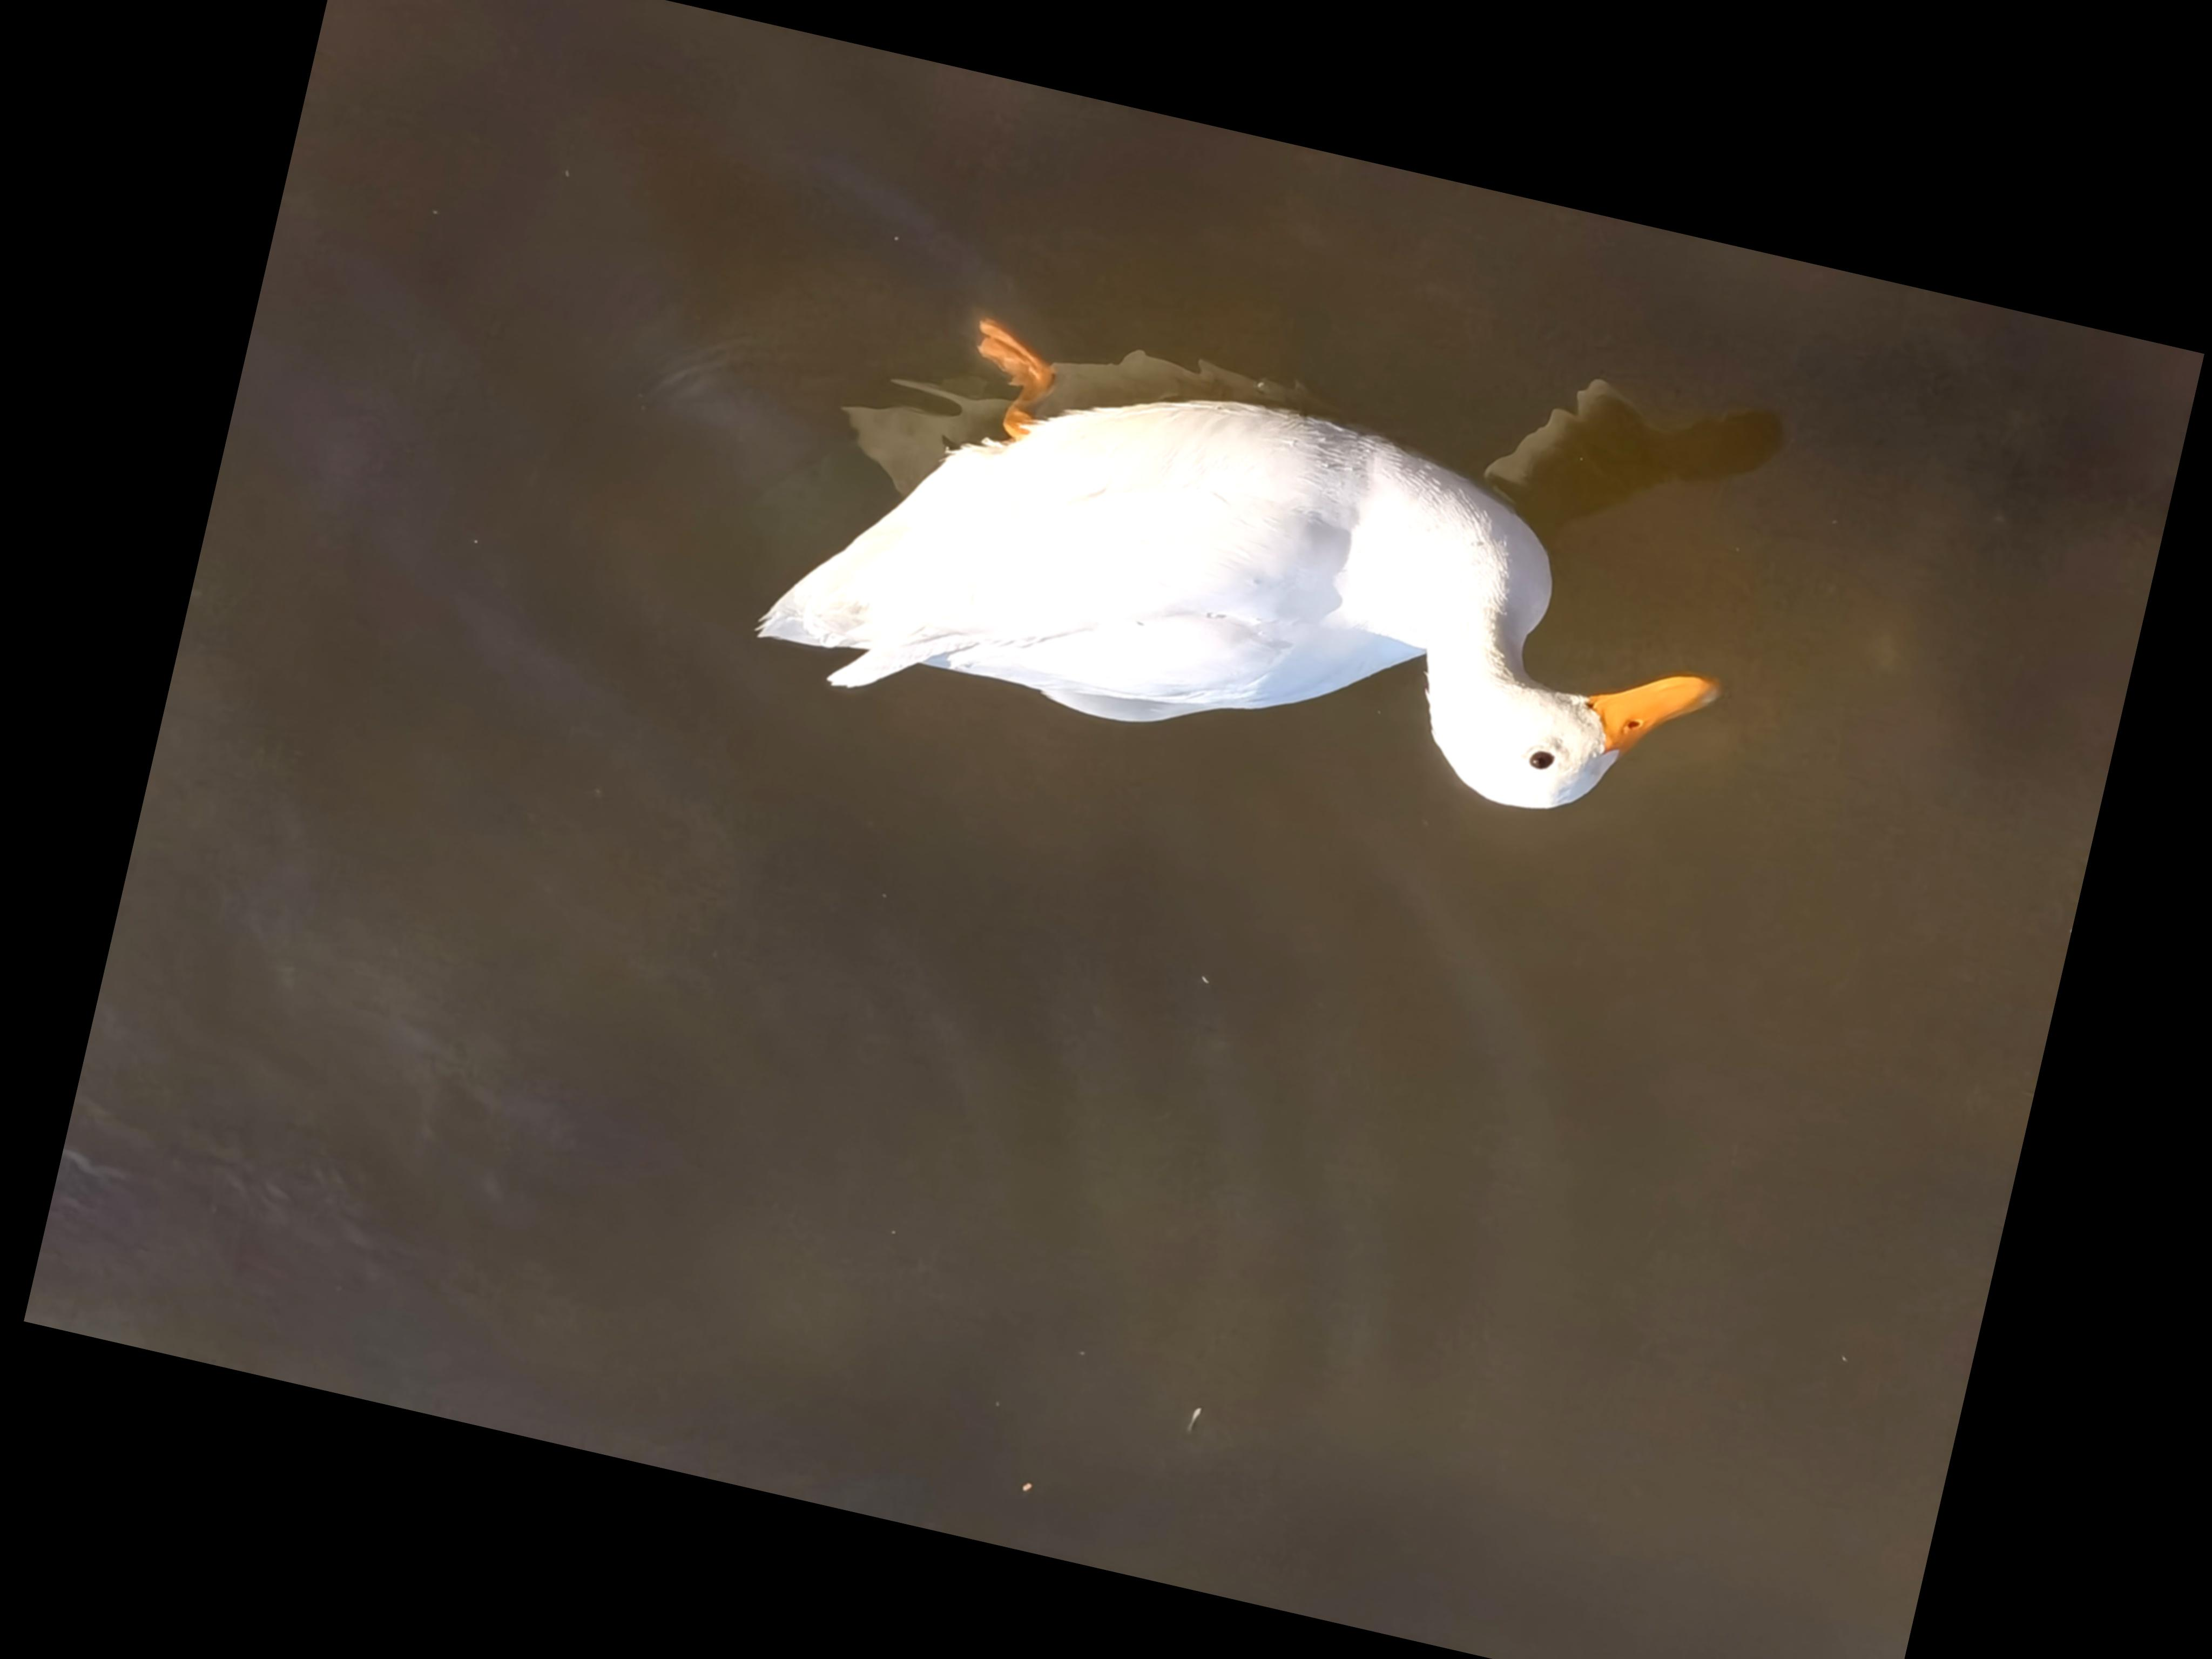duck: (718, 246, 1792, 878)
